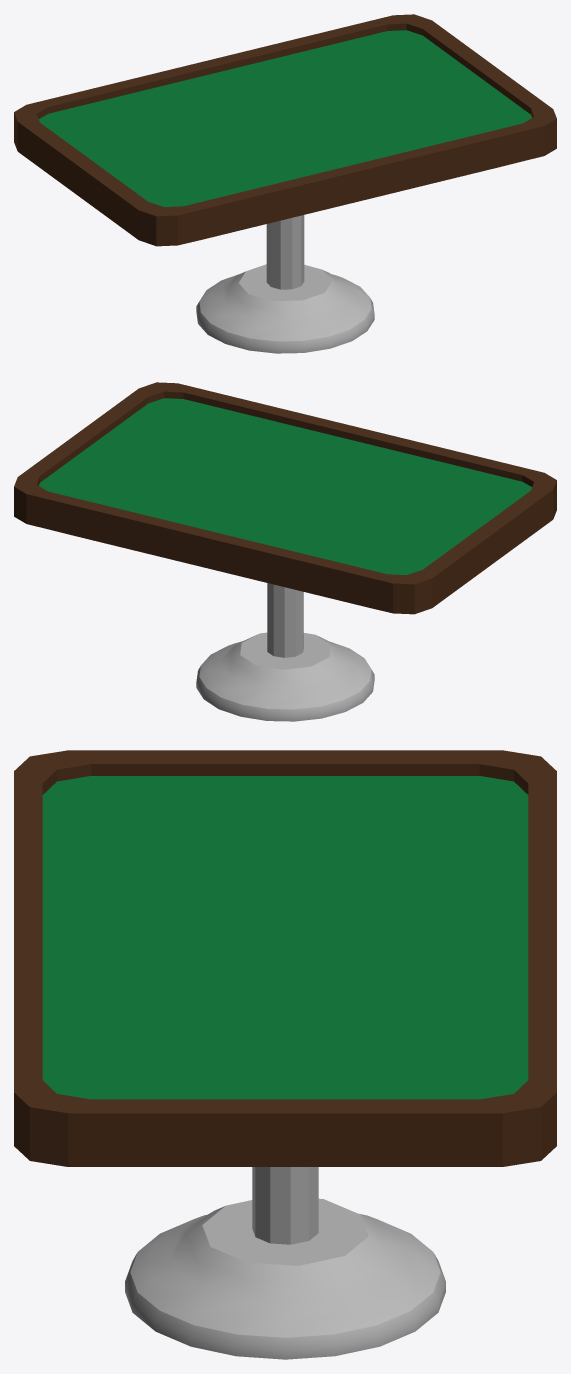
The model's file is matching_table.fbx.
3 renders of one model, top to bottom at view 1: azimuth 30°, elevation 25°; view 2: azimuth 150°, elevation 25°; view 3: azimuth 270°, elevation 25°, orthographic. The views are drawn at different scales.
Visible parts, largest first — view 1: Matching_Table1_Matching_Table_Leg; view 2: Matching_Table1_Matching_Table_Leg; view 3: Matching_Table1_Matching_Table_Leg.
Boxes of the visible parts, bbox=[...] form: Matching_Table1_Matching_Table_Leg: bbox=[14, 14, 556, 353]; Matching_Table1_Matching_Table_Leg: bbox=[14, 382, 556, 721]; Matching_Table1_Matching_Table_Leg: bbox=[14, 750, 556, 1359].
Bounding box in the file's own units: 2.64 × 1.22 × 1.67.
